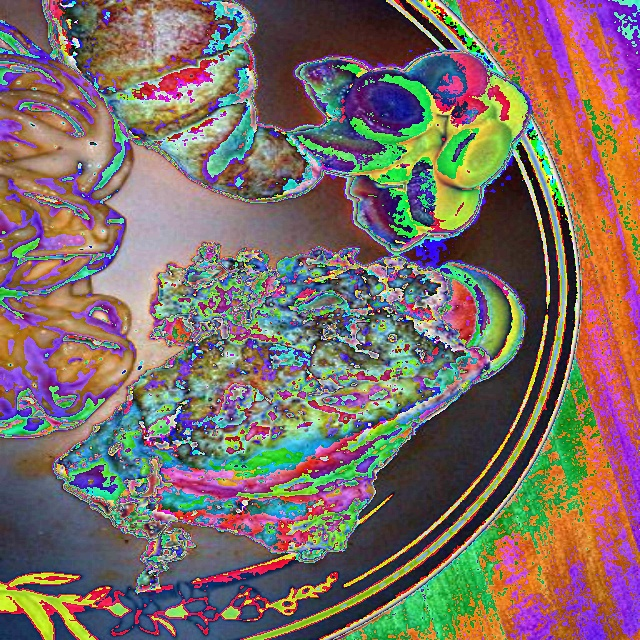background: (0, 0, 534, 439), (55, 242, 526, 552)
